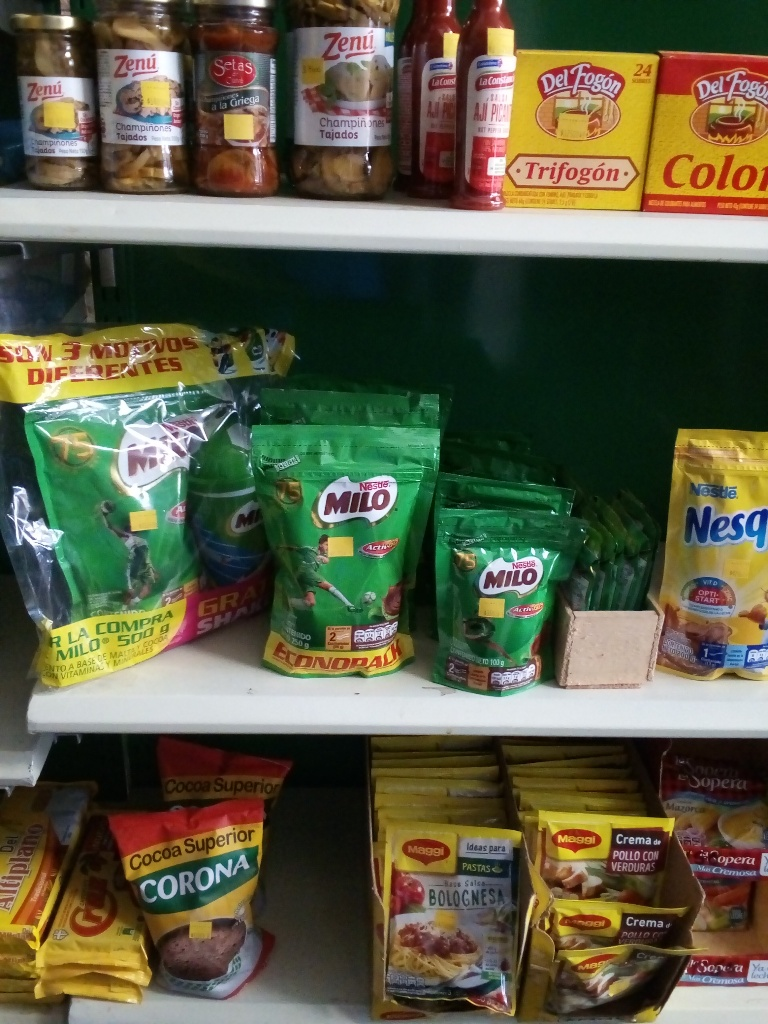COL0170203DYP10000: (435, 505, 566, 700)
COL0170203DYP50000: (23, 392, 203, 631)
COL0170303DYP20000: (660, 426, 768, 683)
